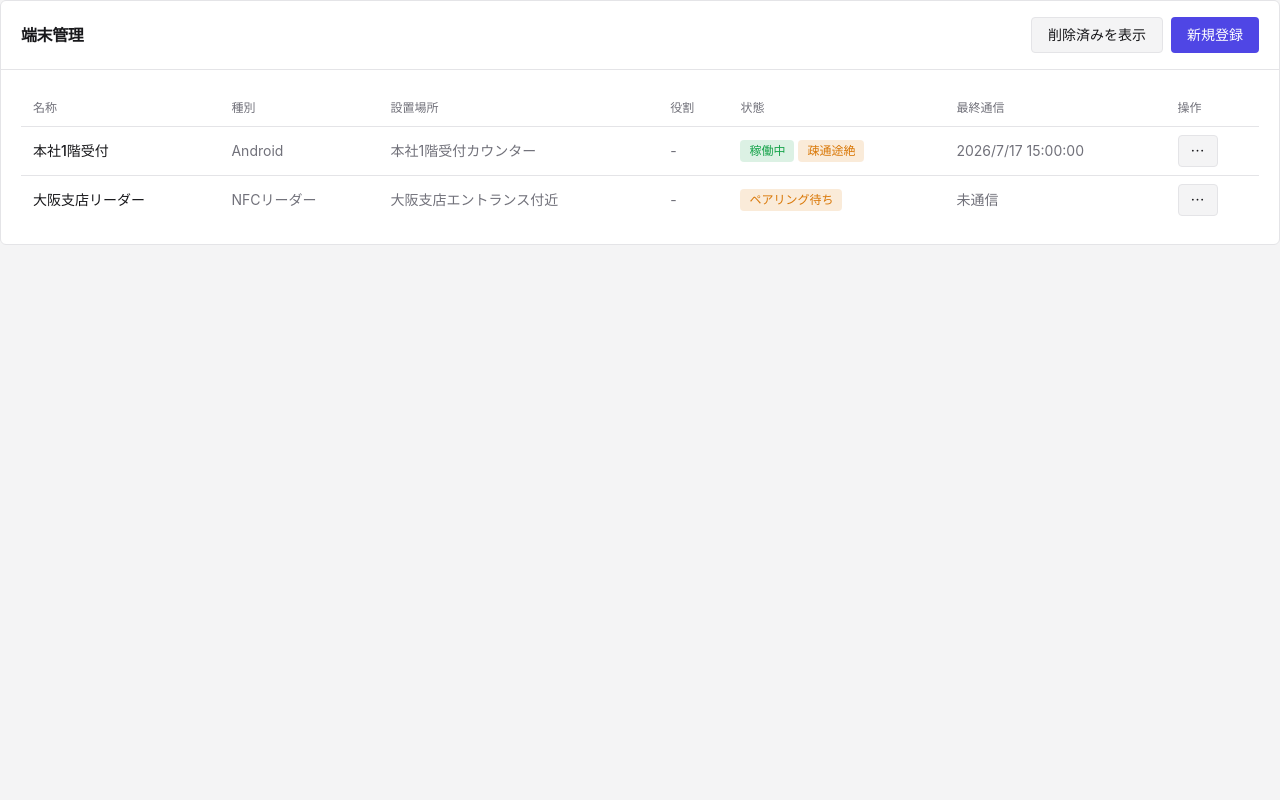
Test: DeviceListPage › opens the device detail modal from the 詳細 menu item
Expected: the text "大阪支店リーダー" is shown, [21,175,220,224]
Click the button named "大阪支店リーダーの操作".
click(1198, 200)  # box [1178,184,1218,216]
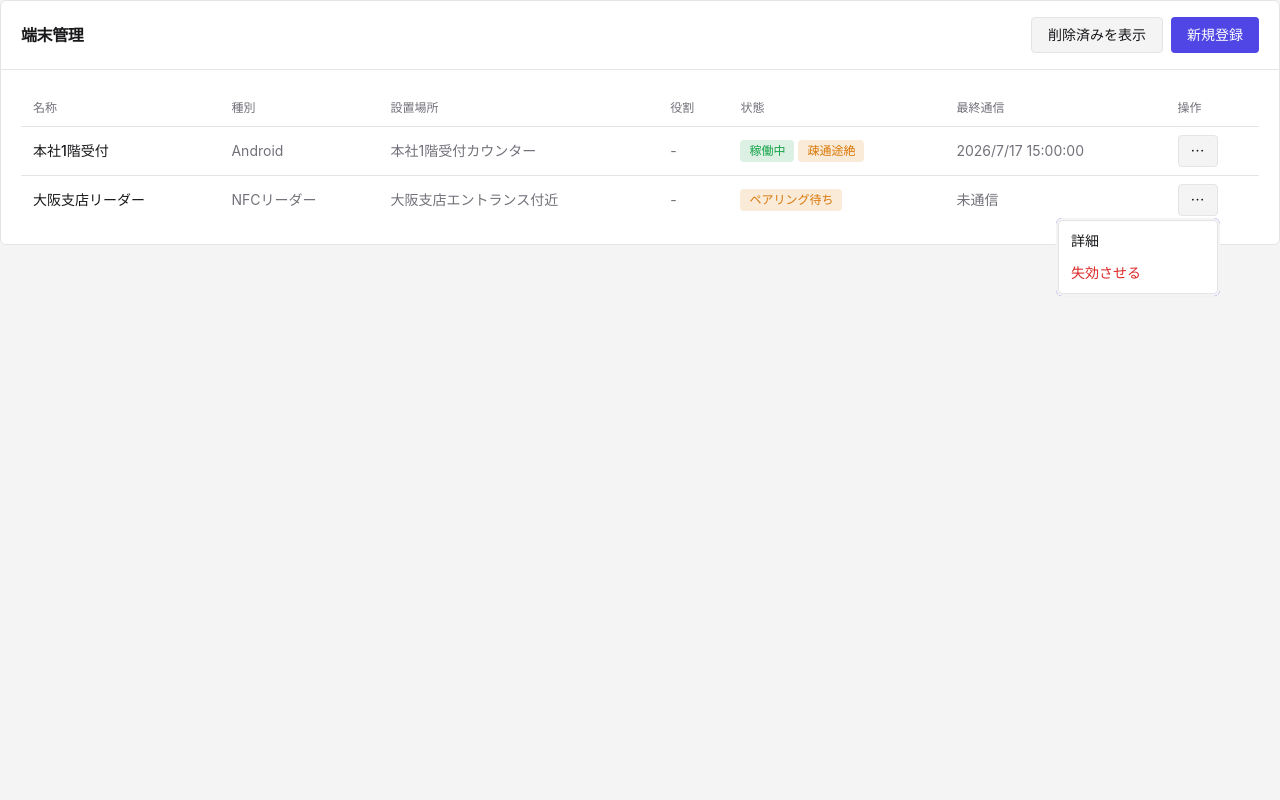
Click the menu item "詳細".
click(1085, 240)  # box [1071,232,1099,249]
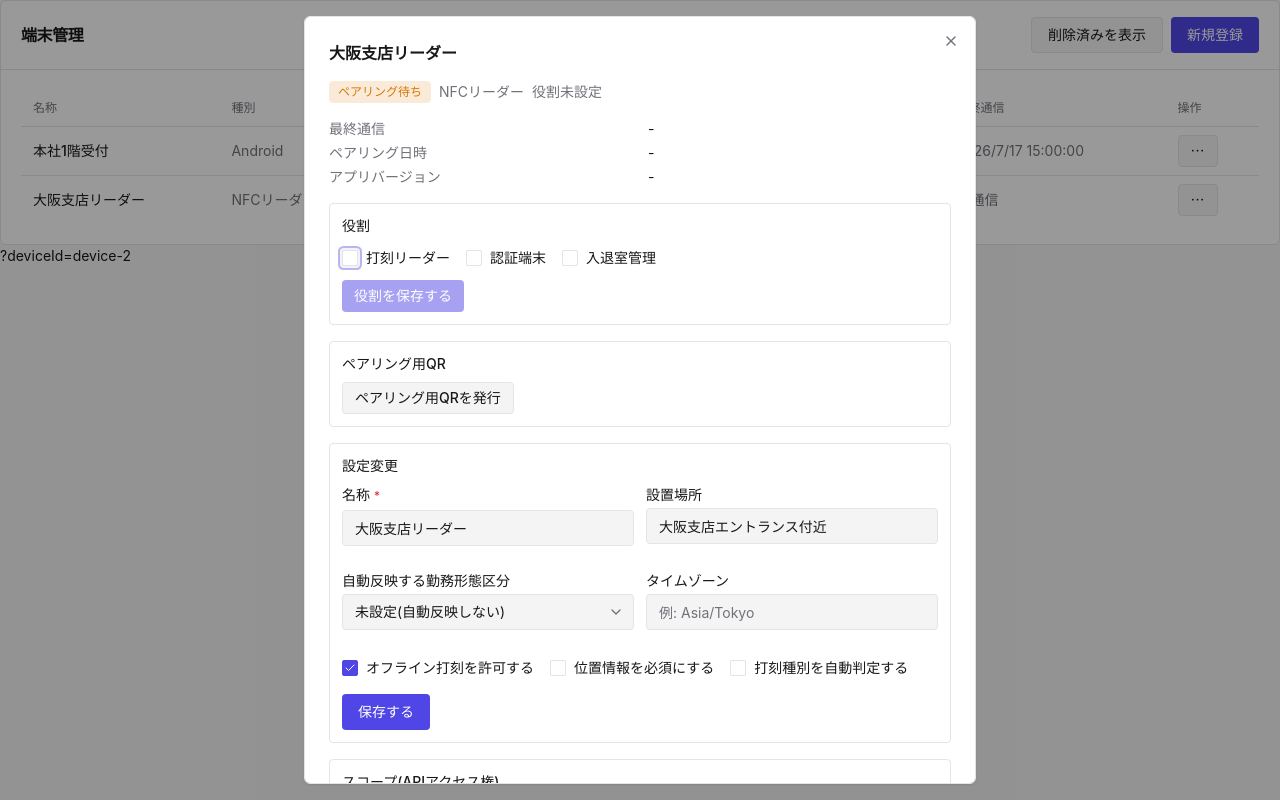
Expected: the heading "大阪支店リーダー" is shown, [329,43,457,63]
